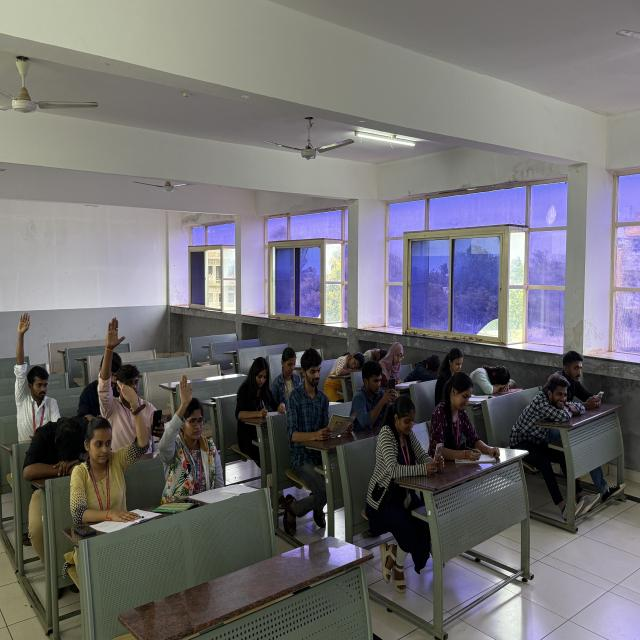Hand Rising: (79, 374, 153, 504), (157, 368, 217, 492), (100, 311, 158, 438), (10, 308, 64, 437)
Reading: (285, 345, 357, 437), (377, 342, 417, 389)
Sleeping: (14, 406, 100, 488), (505, 368, 585, 432), (467, 358, 519, 402), (323, 346, 369, 388), (404, 351, 446, 384), (360, 345, 394, 370)
Using Phone: (367, 391, 446, 488), (558, 346, 616, 416), (348, 359, 400, 425)
Writing: (435, 368, 502, 478), (233, 350, 290, 430)
